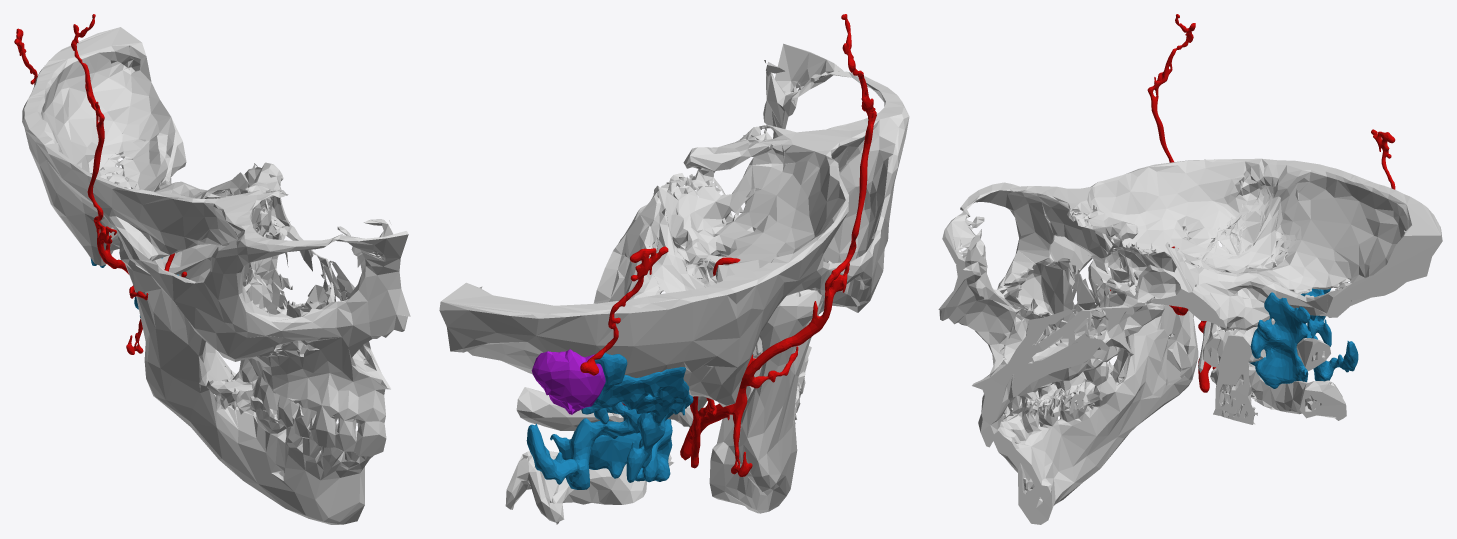
The model's file is occhemangioma.fbx.
3 renders of one model, left to right at view 1: azimuth 30°, elevation 25°; view 2: azimuth 150°, elevation 25°; view 3: azimuth 270°, elevation 25°, orthographic. The views are drawn at different scales.
Parts seen in each view (by area): view 1: bone, arteries_reg; view 2: bone, veins_reg, arteries_reg, avm_reg; view 3: bone, veins_reg, arteries_reg.
Boxes of the visible parts, x1=… form: bone: x1=22, y1=27, x2=410, y2=524; arteries_reg: x1=14, y1=14, x2=186, y2=354; bone: x1=439, y1=43, x2=909, y2=524; veins_reg: x1=526, y1=353, x2=693, y2=489; arteries_reg: x1=580, y1=14, x2=876, y2=476; avm_reg: x1=531, y1=349, x2=605, y2=414; bone: x1=938, y1=158, x2=1442, y2=524; veins_reg: x1=1249, y1=288, x2=1358, y2=388; arteries_reg: x1=1110, y1=14, x2=1395, y2=392.
Bounding box in the file's own units: 7014 × 16807 × 17716.
